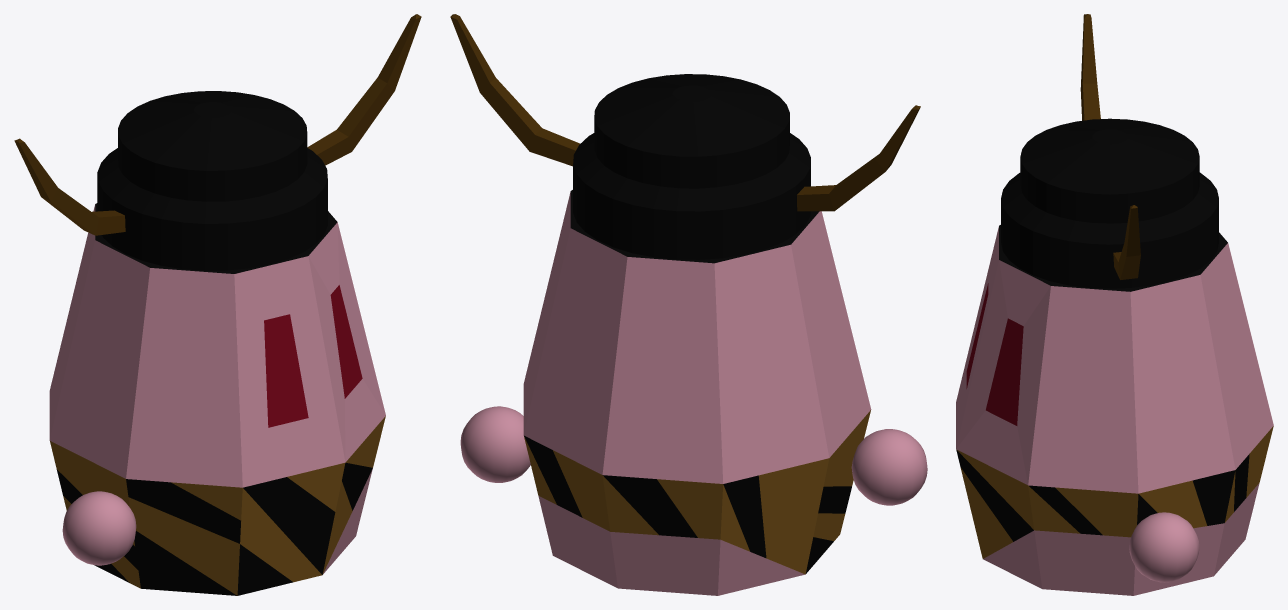
File: Character_stoneAge_2.fbx
3 views of the same model, side by side, from view 1: azimuth 30°, elevation 25°; view 2: azimuth 150°, elevation 25°; view 3: azimuth 270°, elevation 25° (orthographic). The views are drawn at different scales.
Visible parts, largest first — view 1: Cube.001; view 2: Cube.001; view 3: Cube.001.
Part boxes in pixels (x1,y1,x2,y2): Cube.001: [14, 14, 421, 595]; Cube.001: [450, 14, 927, 595]; Cube.001: [956, 14, 1273, 595].
Size of the model in its own units: 341 by 349 by 232.
